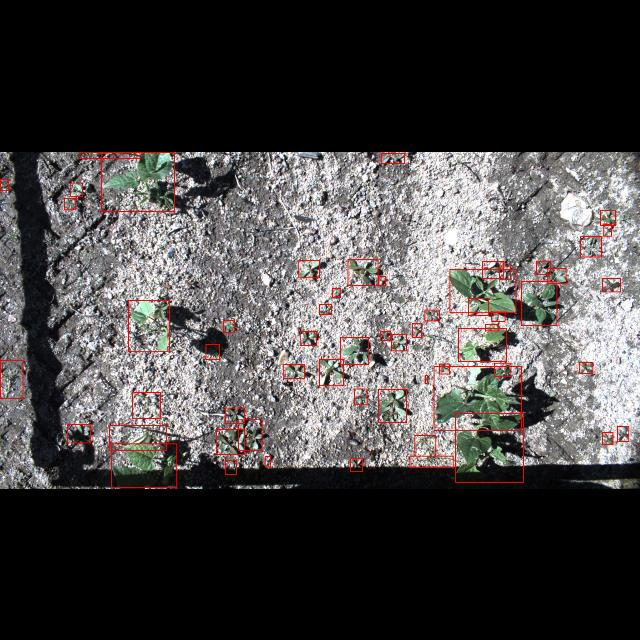crop: (434, 366, 520, 430), (455, 412, 523, 482), (102, 151, 174, 211), (111, 443, 177, 487), (450, 268, 516, 312), (128, 299, 170, 351), (458, 328, 506, 360)
weed: (521, 281, 557, 325), (110, 424, 167, 450), (378, 388, 407, 422), (1, 359, 23, 398), (348, 258, 378, 286), (341, 336, 369, 364), (132, 392, 160, 418), (216, 428, 244, 454), (238, 420, 262, 450), (319, 358, 343, 386), (410, 455, 452, 467), (414, 434, 436, 456), (580, 236, 602, 256), (68, 423, 90, 442), (482, 260, 503, 278), (80, 151, 140, 157), (299, 259, 319, 277), (468, 298, 488, 314), (284, 364, 304, 378), (226, 408, 244, 422), (602, 277, 620, 291), (548, 268, 566, 282), (381, 152, 405, 162), (600, 210, 616, 224), (300, 331, 316, 345), (354, 388, 368, 404), (392, 334, 406, 350), (495, 362, 511, 376), (206, 344, 220, 358), (536, 260, 550, 274), (617, 426, 629, 442), (71, 182, 83, 196), (350, 458, 362, 472), (424, 310, 440, 320), (226, 460, 237, 474), (579, 362, 593, 373), (64, 197, 76, 209), (412, 323, 422, 337), (223, 320, 234, 332), (602, 432, 612, 444), (319, 304, 331, 314), (500, 266, 510, 278), (492, 311, 504, 321), (381, 330, 391, 340), (439, 363, 449, 373), (0, 178, 8, 190), (604, 223, 612, 235), (486, 324, 498, 331), (332, 288, 340, 296), (378, 276, 386, 284), (265, 456, 271, 466), (425, 374, 427, 384)
